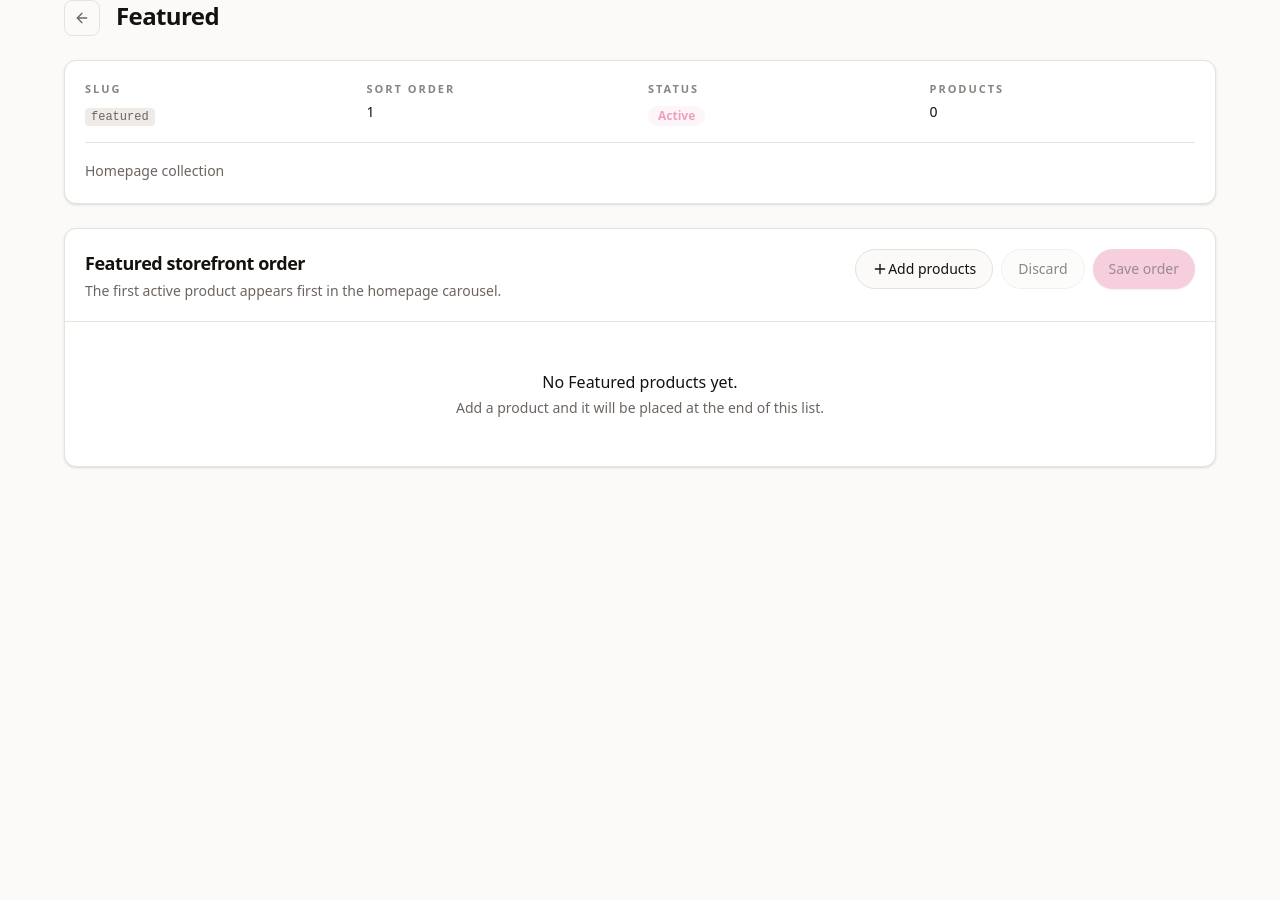
Scenario: AdminCollectionDetailPageClient › shows a friendly error when an add partially fails
Step 1. Click the button "Add products" → (924, 268), box [855,248,993,288]
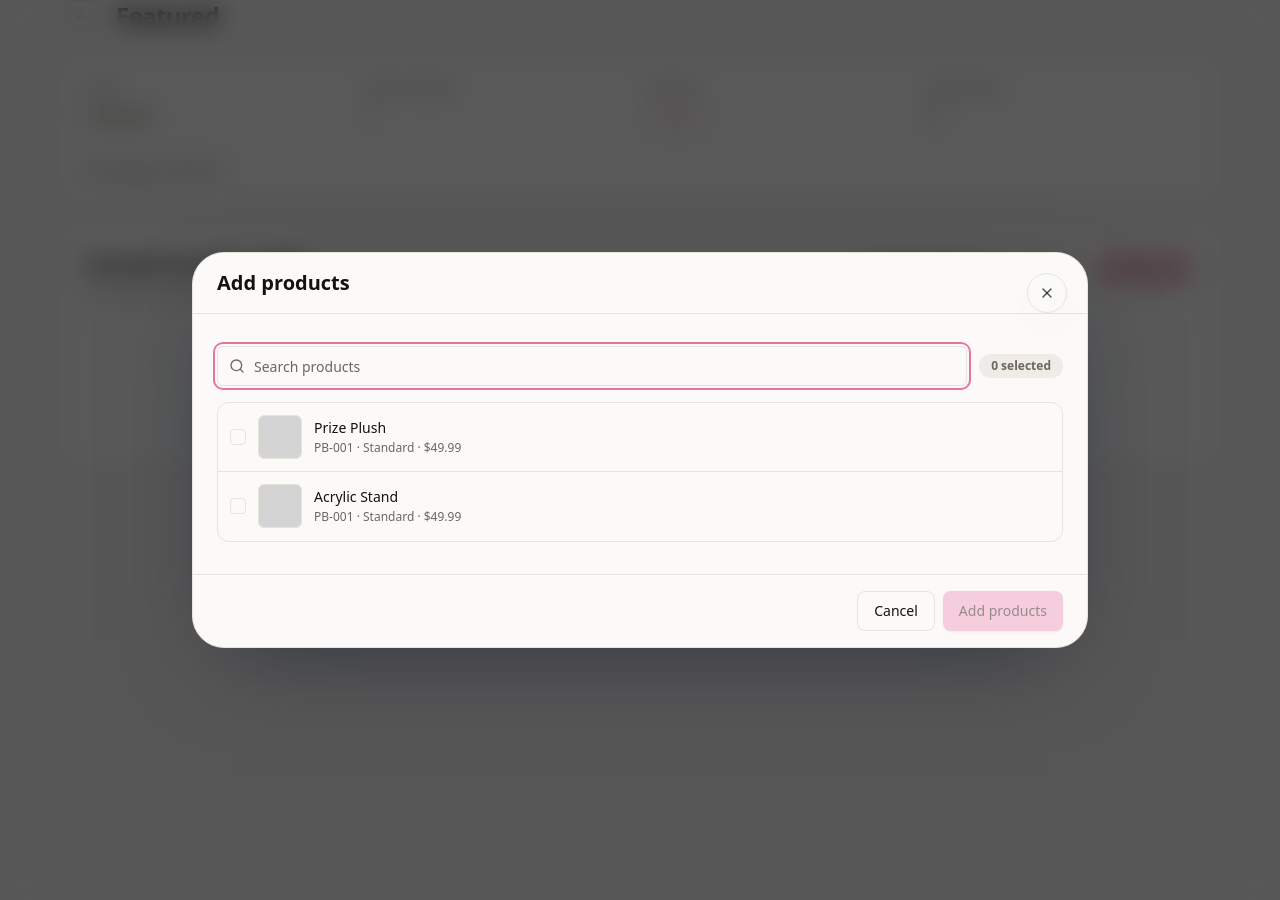
Step 2. Click the checkbox named "Select Prize Plush" → (238, 437), box [230,429,246,445]
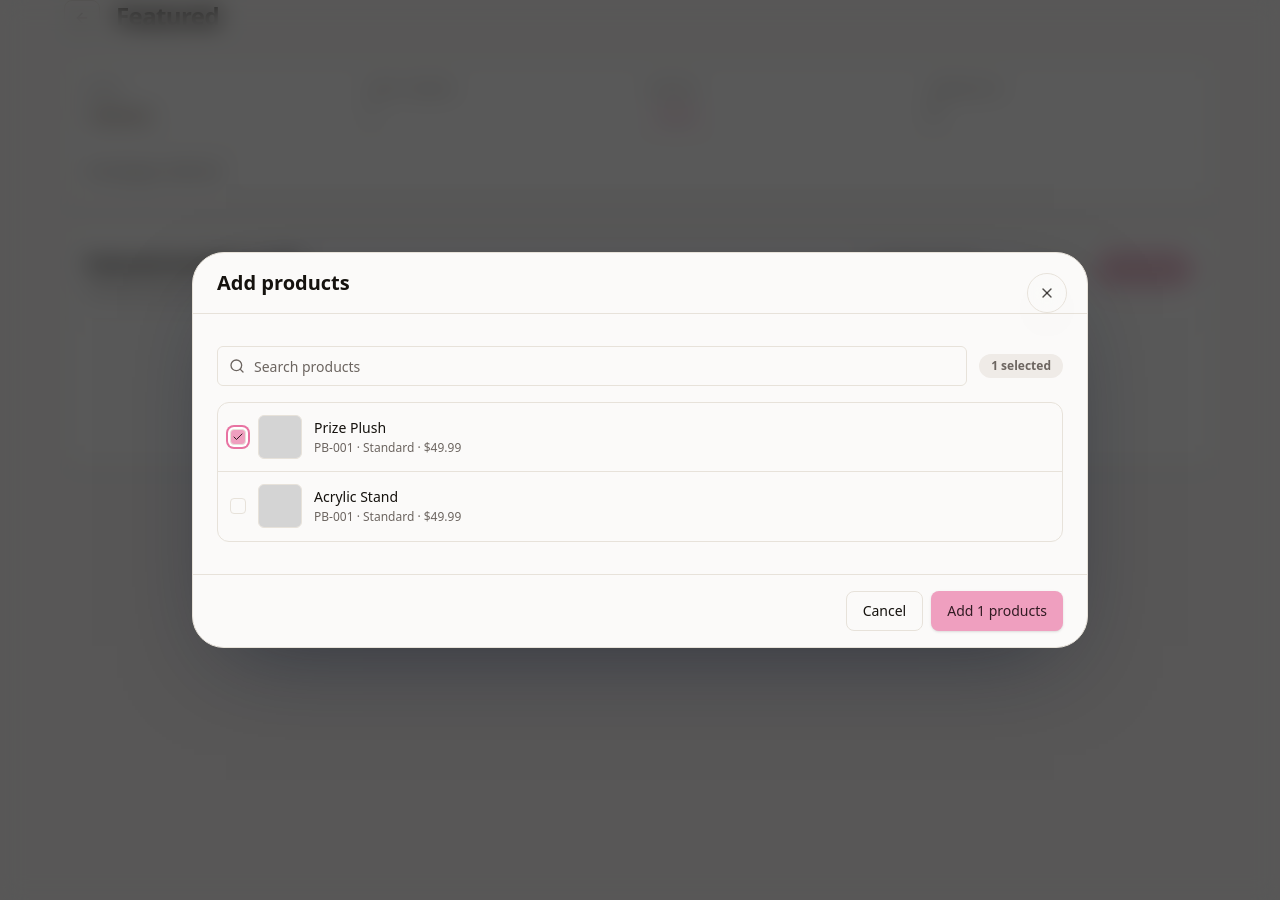
Step 3. Click the checkbox named "Select Acrylic Stand" → (238, 506), box [230,498,246,514]
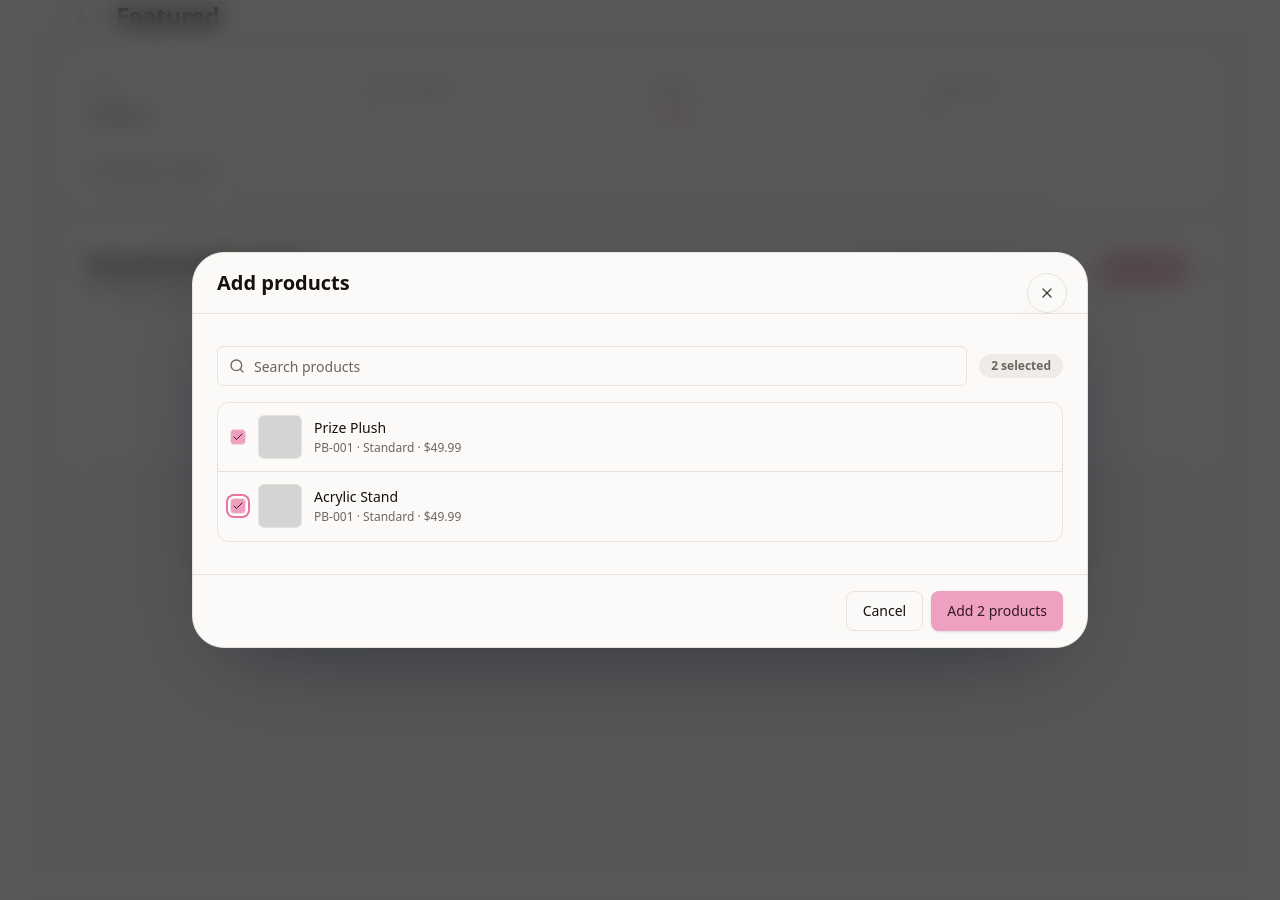
Step 4. Click the button "Add 2 products" → (997, 611), box [931,591,1063,631]
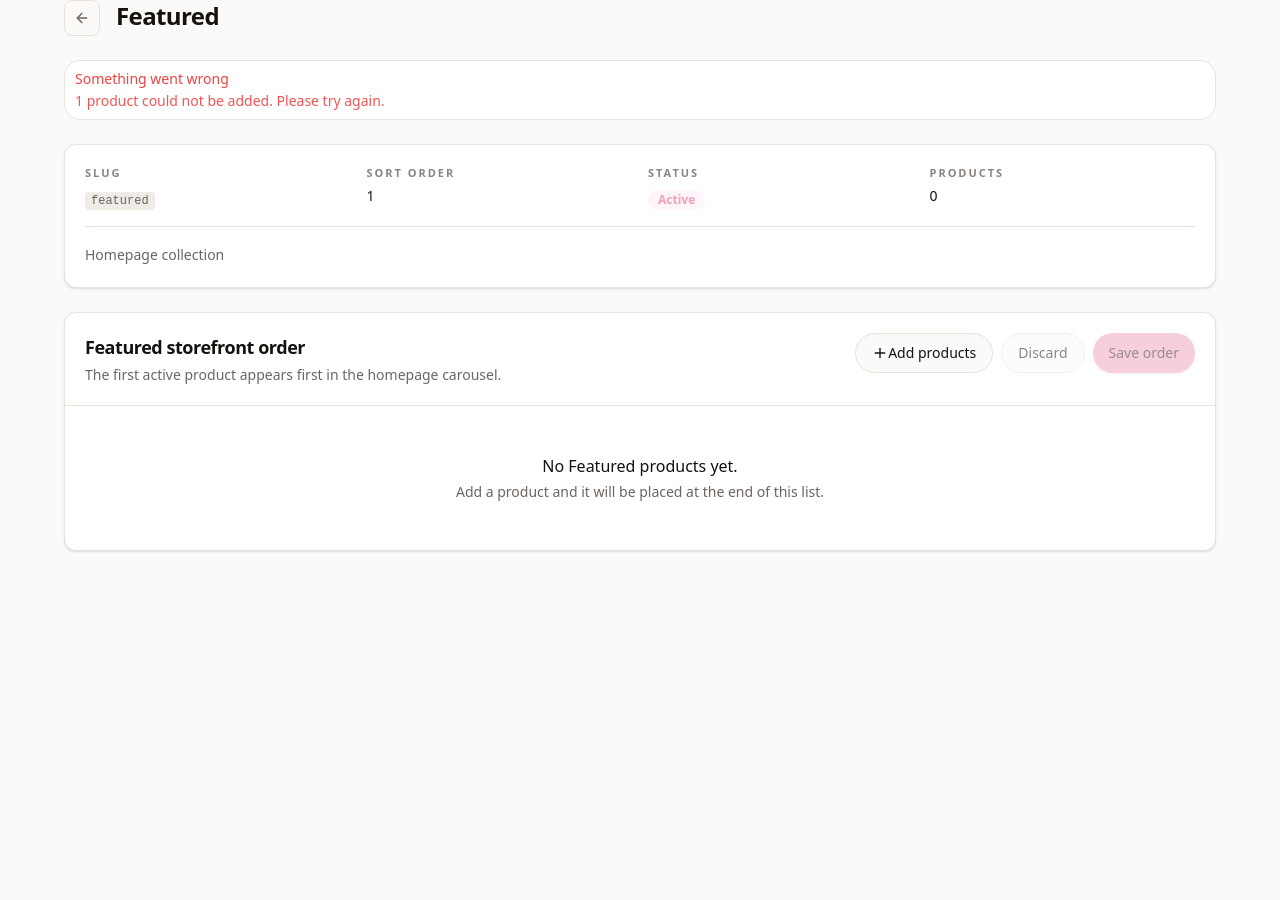
Expected: the text "1 product could not be added. Please try again." is shown, [75,91,385,110]
